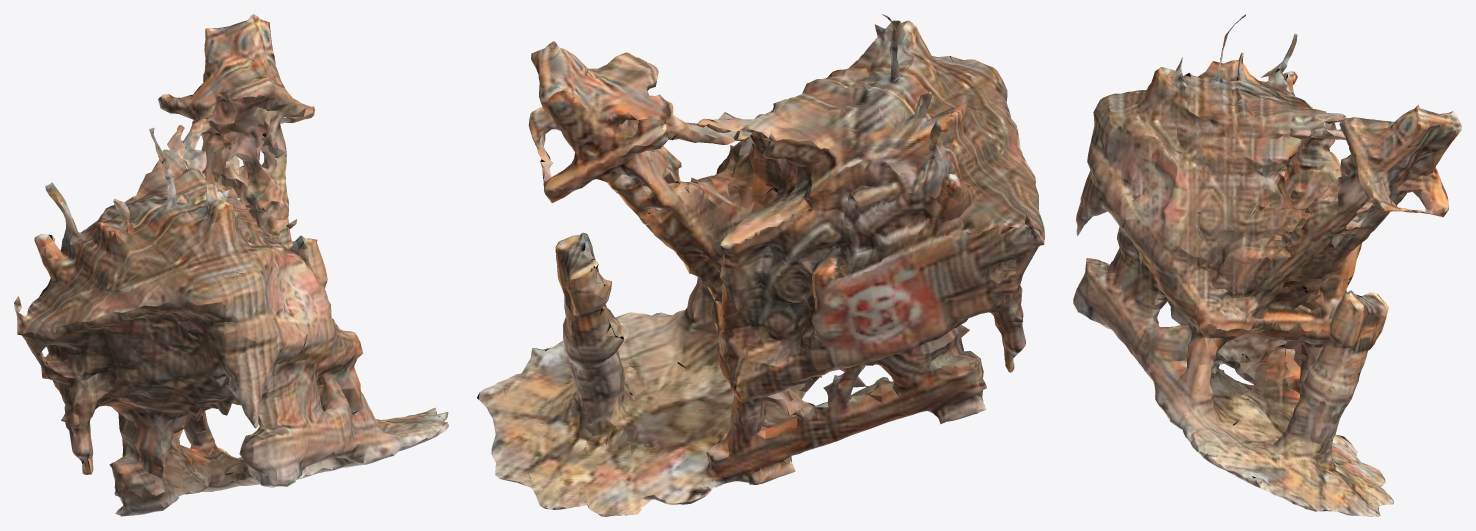
File: vorash_harvester.glb
3 renders of one model, left to right at view 1: azimuth 30°, elevation 25°; view 2: azimuth 150°, elevation 25°; view 3: azimuth 270°, elevation 25°, orthographic. The views are drawn at different scales.
Parts seen in each view (by area): view 1: geometry_0; view 2: geometry_0; view 3: geometry_0.
Part boxes in pixels (box(x1,y1,x2,y2)): geometry_0: box(14, 14, 448, 516); geometry_0: box(477, 14, 1044, 516); geometry_0: box(1073, 14, 1461, 516).
Size of the model in its own units: 0.9375 by 0.8383 by 0.7538.
Materials: 1 (1 with a texture image).
